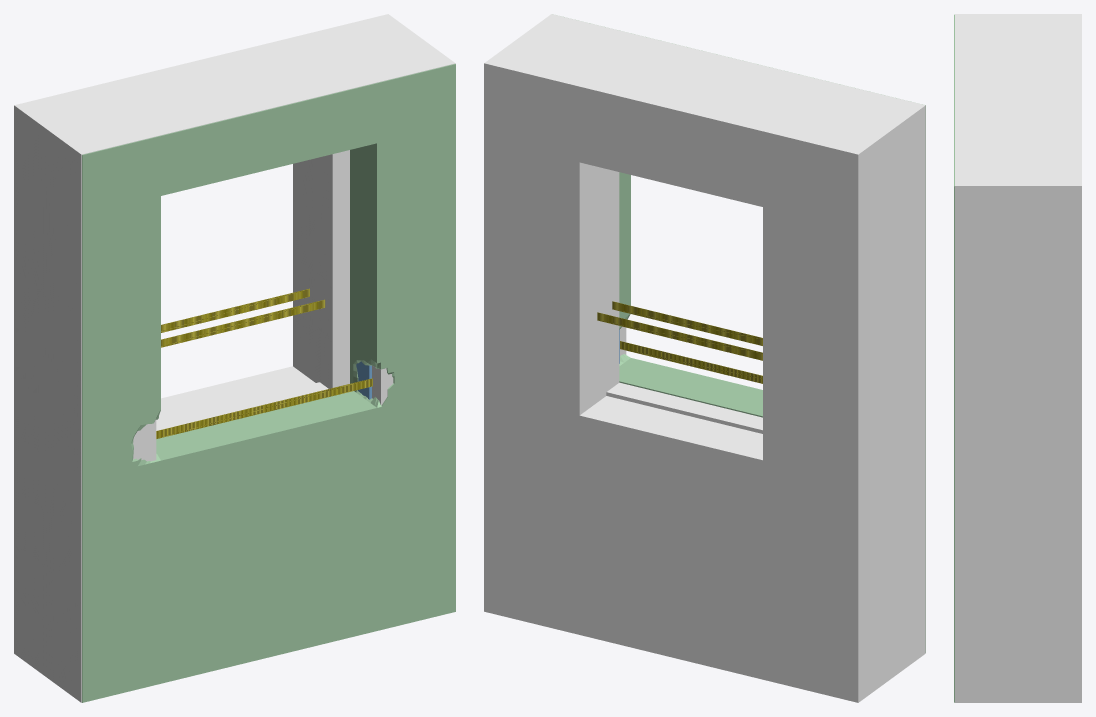
Rendered from wall.glb.
The picture shows the model from 3 angles, left to right: view 1: azimuth 30°, elevation 25°; view 2: azimuth 150°, elevation 25°; view 3: azimuth 270°, elevation 25°; orthographic projection. The views are drawn at different scales.
Visible parts, largest first — view 1: putz, dg_neubau, il_neubau, il_altbau, al_big, al_small, bandmass_il, bandmass_al, bandmass_dg; view 2: dg_neubau, il_altbau, il_neubau, al_small, putz, al_big, bandmass_dg, bandmass_al, bandmass_il; view 3: dg_neubau, il_neubau, al_big, il_altbau, al_small, putz.
Boxes of the visible parts, left/top/right/bottom form: putz: left=82, top=64, right=455, bottom=702; dg_neubau: left=14, top=14, right=414, bottom=672; il_neubau: left=42, top=43, right=455, bottom=702; il_altbau: left=54, top=43, right=450, bottom=699; al_big: left=41, top=40, right=426, bottom=388; al_small: left=41, top=34, right=427, bottom=673; bandmass_il: left=156, top=378, right=372, bottom=438; bandmass_al: left=161, top=299, right=325, bottom=347; bandmass_dg: left=161, top=288, right=309, bottom=332; dg_neubau: left=484, top=43, right=885, bottom=702; il_altbau: left=524, top=17, right=921, bottom=673; il_neubau: left=525, top=14, right=925, bottom=663; al_small: left=513, top=34, right=898, bottom=682; putz: left=563, top=16, right=925, bottom=652; al_big: left=512, top=34, right=897, bottom=391; bandmass_dg: left=597, top=312, right=762, bottom=360; bandmass_al: left=612, top=301, right=762, bottom=345; bandmass_il: left=620, top=341, right=762, bottom=383; dg_neubau: left=1029, top=14, right=1081, bottom=702; il_neubau: left=955, top=14, right=1028, bottom=702; al_big: left=1006, top=14, right=1031, bottom=702; il_altbau: left=962, top=14, right=1006, bottom=702; al_small: left=1006, top=14, right=1031, bottom=185; putz: left=954, top=14, right=954, bottom=702.
Bounding box in the file's own units: 200 × 280 × 62.84.
Materials: 6 (1 with a texture image).
